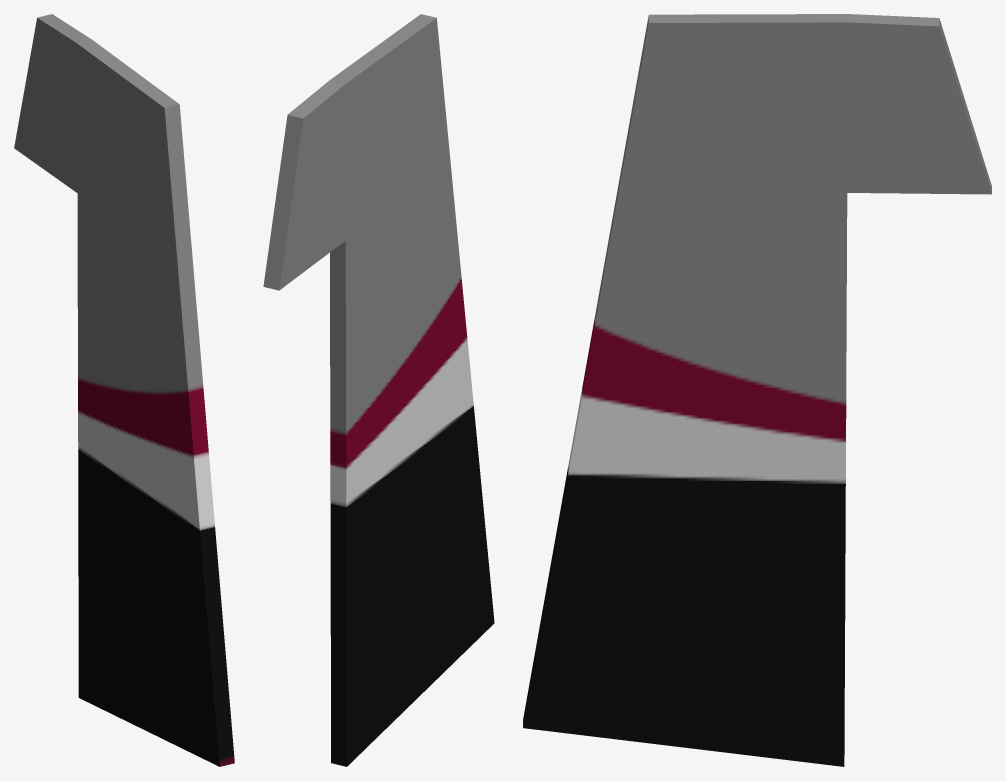
The model's file is Rudder.glb.
The picture shows the model from 3 angles, left to right: view 1: azimuth 30°, elevation 25°; view 2: azimuth 150°, elevation 25°; view 3: azimuth 270°, elevation 25°; orthographic projection. The views are drawn at different scales.
Visible parts, largest first — view 1: Rudder; view 2: Rudder; view 3: Rudder.
Boxes of the visible parts, left/top/right/bottom form: Rudder: left=14, top=14, right=234, bottom=766; Rudder: left=263, top=14, right=494, bottom=766; Rudder: left=523, top=14, right=991, bottom=766.
Size of the model in its own units: 0.01 by 0.4127 by 0.2355.
1 material, 1 textured.
